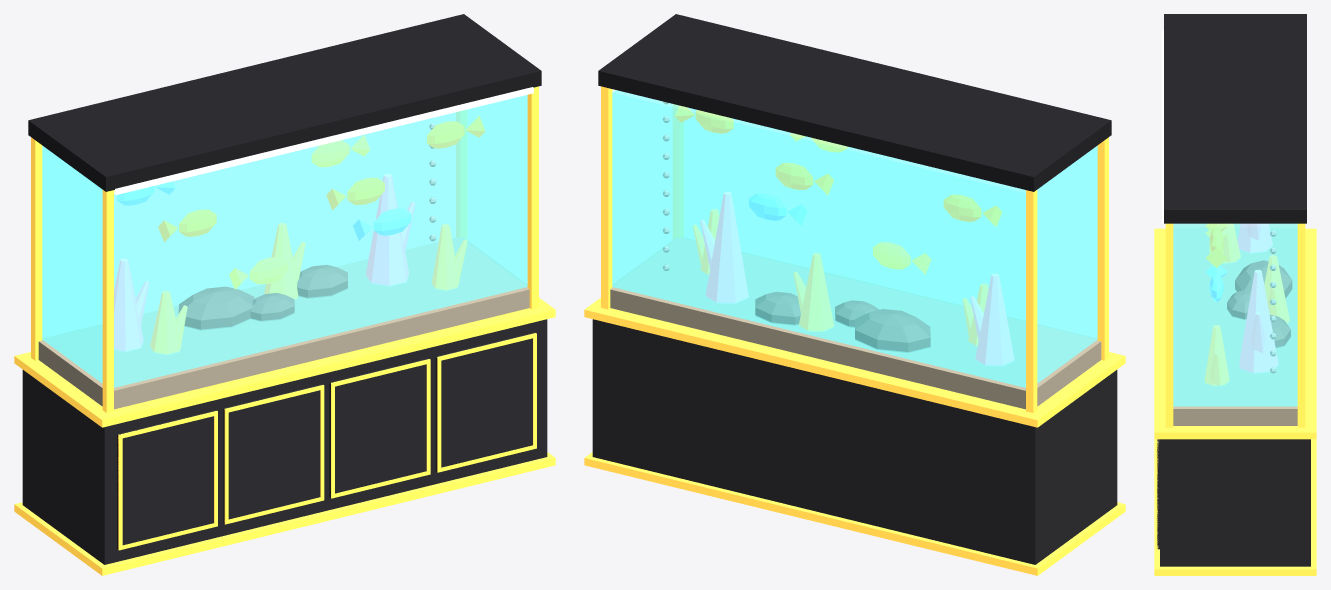
Rendered from lux_aquarium.glb.
3 renders of one model, left to right at view 1: azimuth 30°, elevation 25°; view 2: azimuth 150°, elevation 25°; view 3: azimuth 270°, elevation 25°, orthographic. The views are drawn at different scales.
Visible parts, largest first — view 1: lux_aquarium; view 2: lux_aquarium; view 3: lux_aquarium.
Part boxes in pixels (bbox=[...]): lux_aquarium: bbox=[14, 14, 555, 575]; lux_aquarium: bbox=[584, 14, 1125, 575]; lux_aquarium: bbox=[1154, 14, 1316, 575].
Size of the model in its own units: 2.56 by 2.12 by 0.86.
